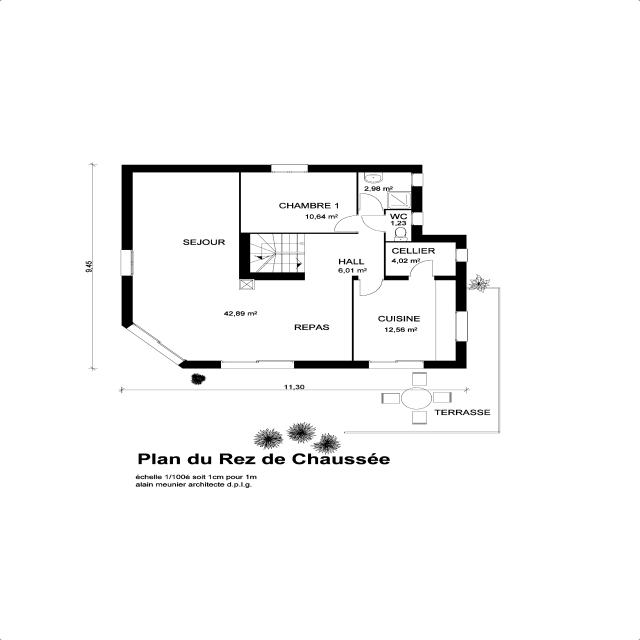door: (355, 277, 385, 298), (408, 259, 437, 280), (358, 192, 383, 214), (332, 214, 359, 233), (360, 214, 386, 232)
window: (215, 358, 300, 368), (452, 307, 471, 343), (365, 359, 428, 368), (119, 246, 135, 279), (268, 165, 312, 174), (302, 275, 350, 282), (410, 210, 422, 228), (456, 247, 468, 264), (410, 173, 422, 188)
zone: (124, 277, 355, 362), (131, 172, 239, 276), (352, 277, 458, 363), (240, 170, 358, 233), (243, 236, 388, 277), (384, 241, 456, 277), (360, 172, 410, 211), (384, 210, 410, 235)
